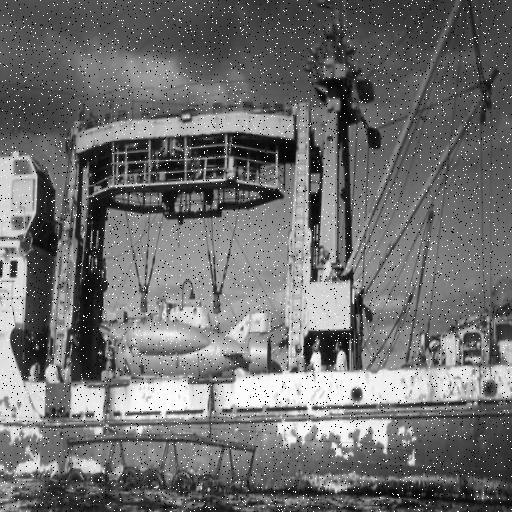submarine: (101, 301, 271, 373)
